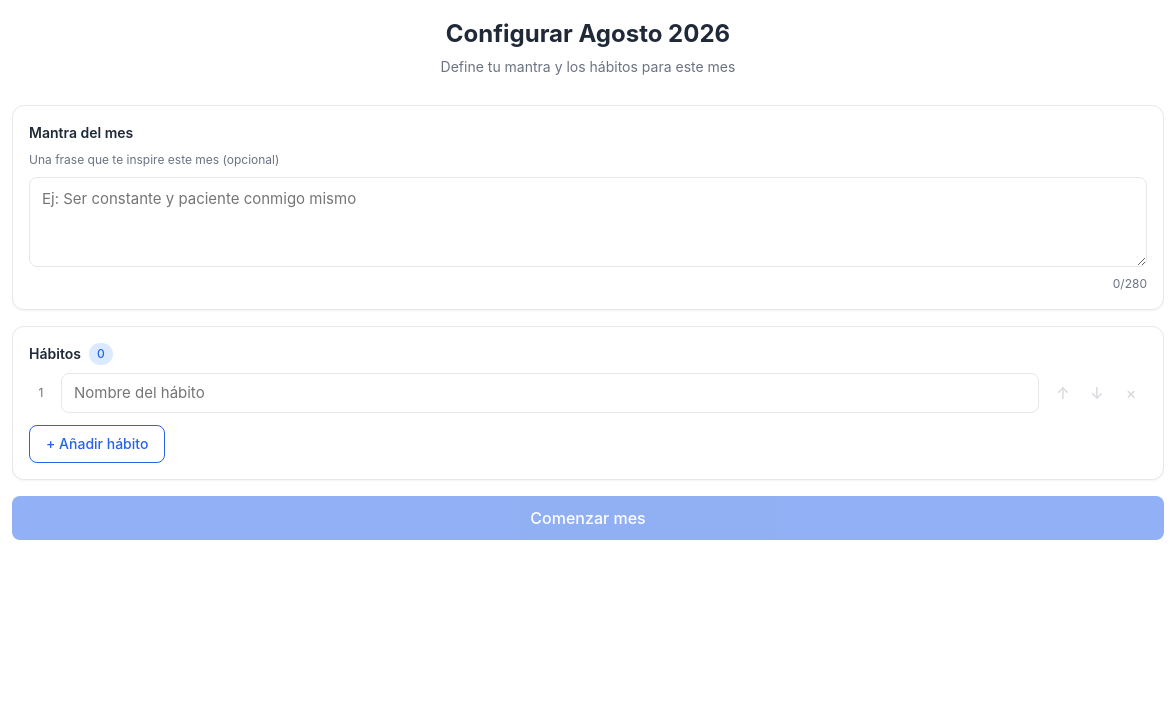
Test: MonthSetup autocomplete › offers to create a new habit when the name does not match
This screenshot has width=1176, height=720.
Type "Correr" into the dropdown with placeholder "Nombre del hábito" at x=550, y=393, box [61,372,1039,413]
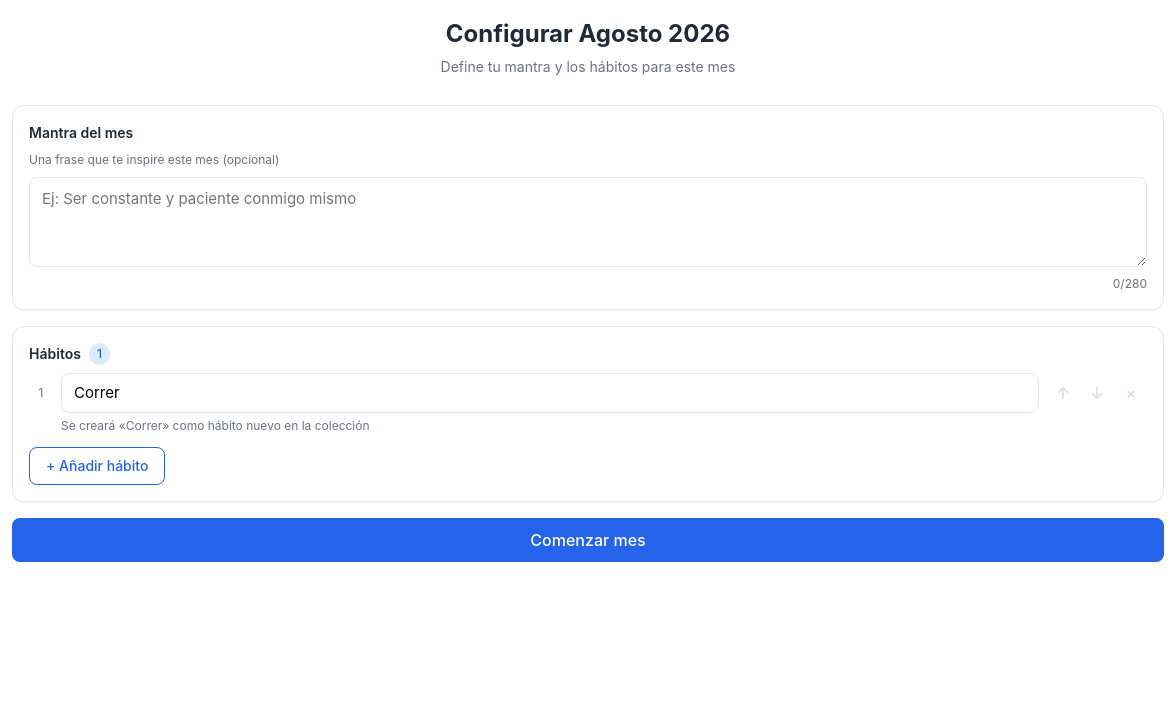
Check: the text "Se creará «Correr» como hábito nuevo en la colección" is shown, box [61,418,370,433]
